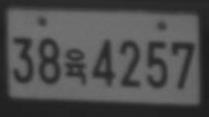2: (119, 40, 140, 87)
3: (12, 36, 33, 83)
4: (91, 38, 116, 86)
5: (147, 41, 167, 88)
7: (171, 41, 195, 89)
8: (38, 38, 61, 85)
육: (65, 48, 86, 84)
